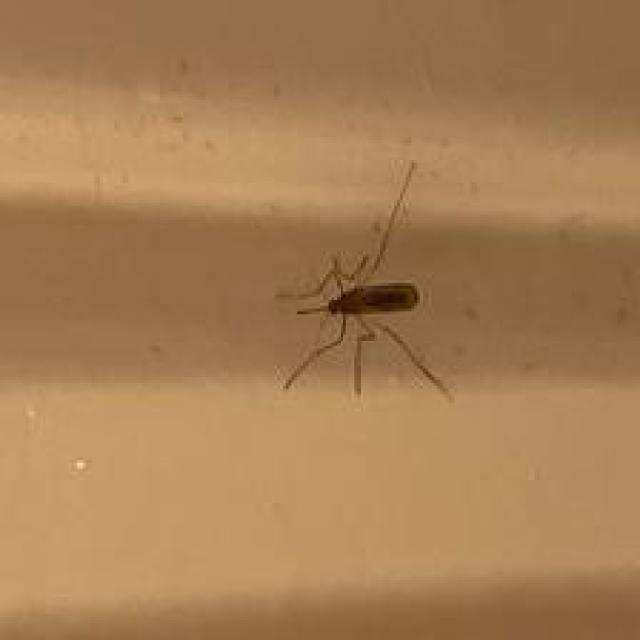Culex: (274, 159, 454, 404)
